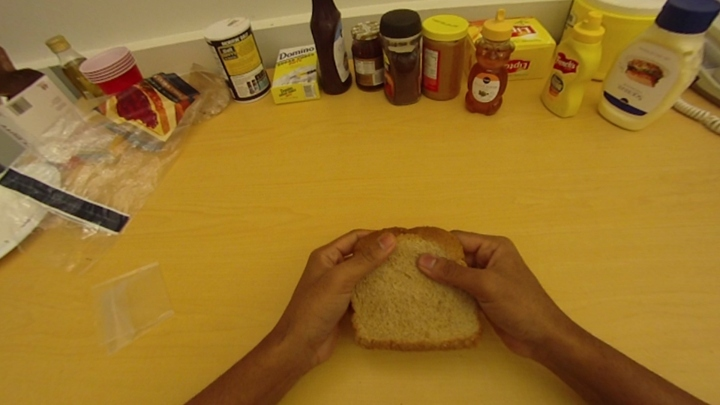hand: (413, 226, 556, 357), (284, 224, 399, 347)
